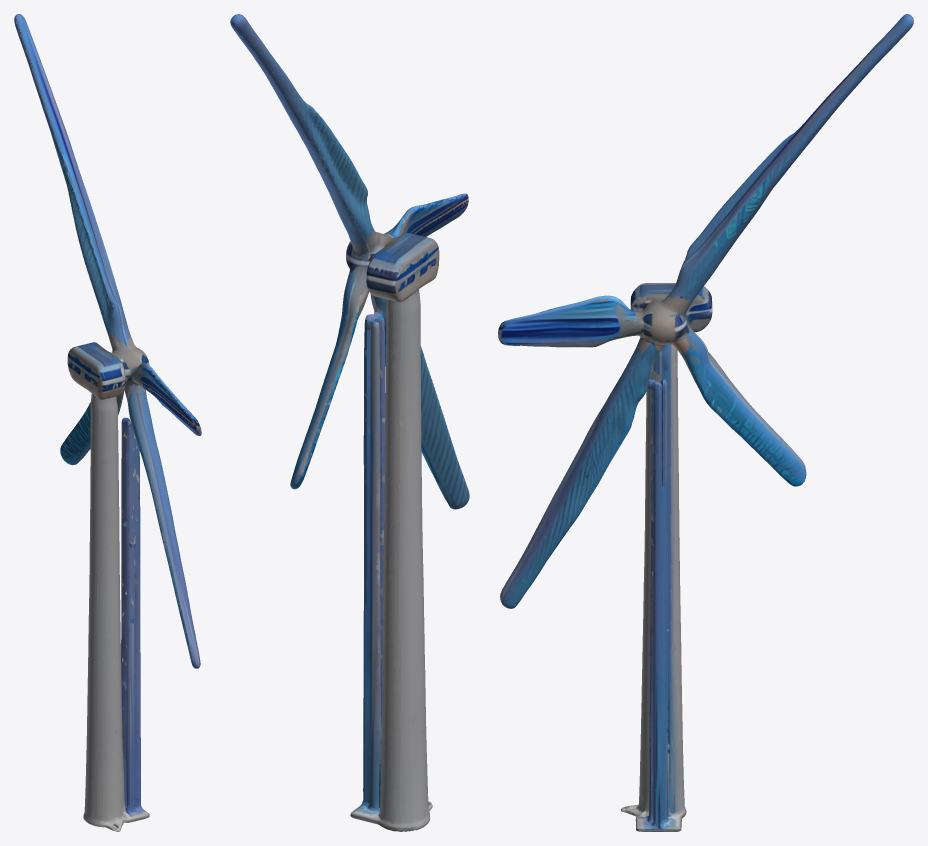
The model's file is wind turbine.glb.
The picture shows the model from 3 angles, left to right: view 1: azimuth 30°, elevation 25°; view 2: azimuth 150°, elevation 25°; view 3: azimuth 270°, elevation 25°; orthographic projection. The views are drawn at different scales.
Parts seen in each view (by area): view 1: textured_mesh; view 2: textured_mesh; view 3: textured_mesh.
Part boxes in pixels (x1,y1,x2,y2): textured_mesh: (14, 14, 201, 831); textured_mesh: (230, 14, 469, 831); textured_mesh: (498, 14, 913, 831).
Size of the model in its own units: 0.1739 by 1.98 by 0.9157.
Materials: 1 (1 with a texture image).
